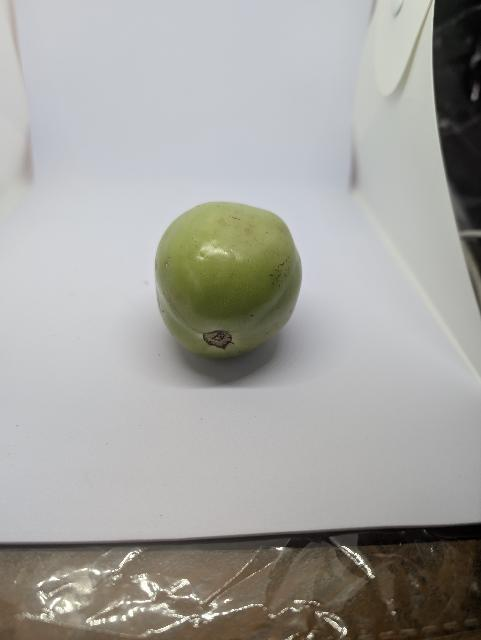green: (142, 189, 314, 371)
